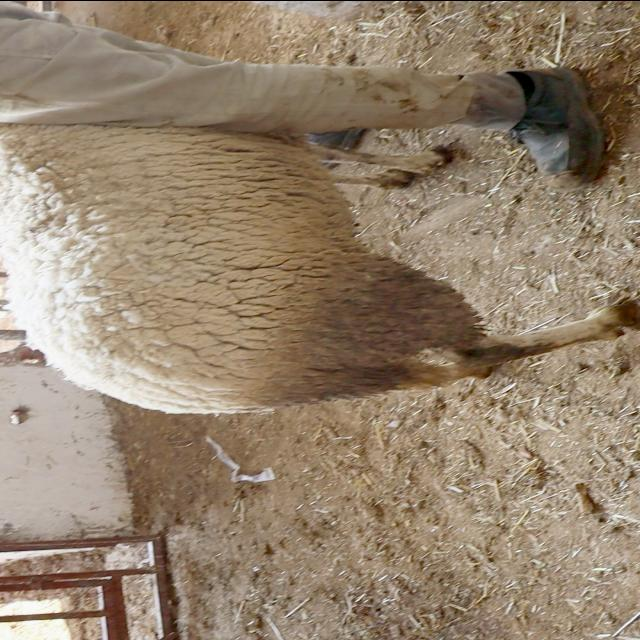Score_5: (0, 123, 636, 413)
